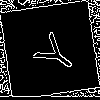Y: (25, 25, 81, 79)
